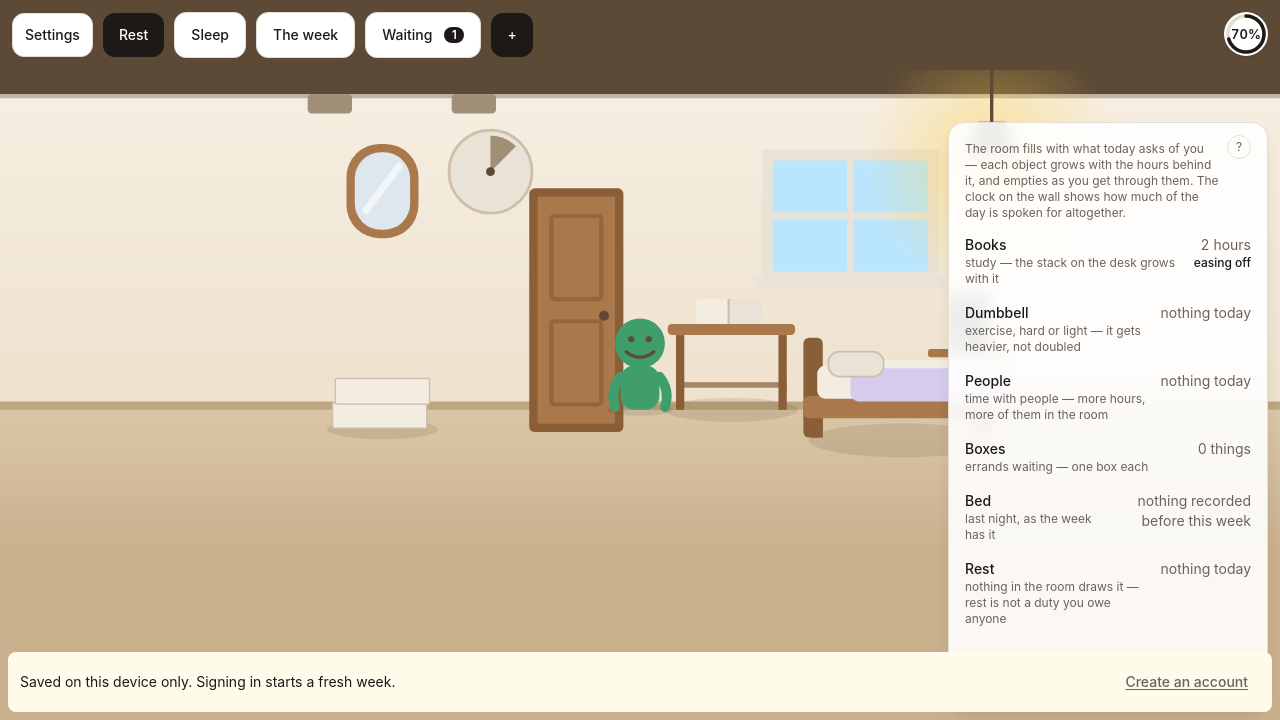
Scenario: RoomShell with a block to confirm › asks whether a scheduled block happened, on the today card
The width and height of the screenshot is (1280, 720).
Click the button with test id "open-notices".
click(423, 35)  # box x1=365 y1=12 x2=481 y2=58
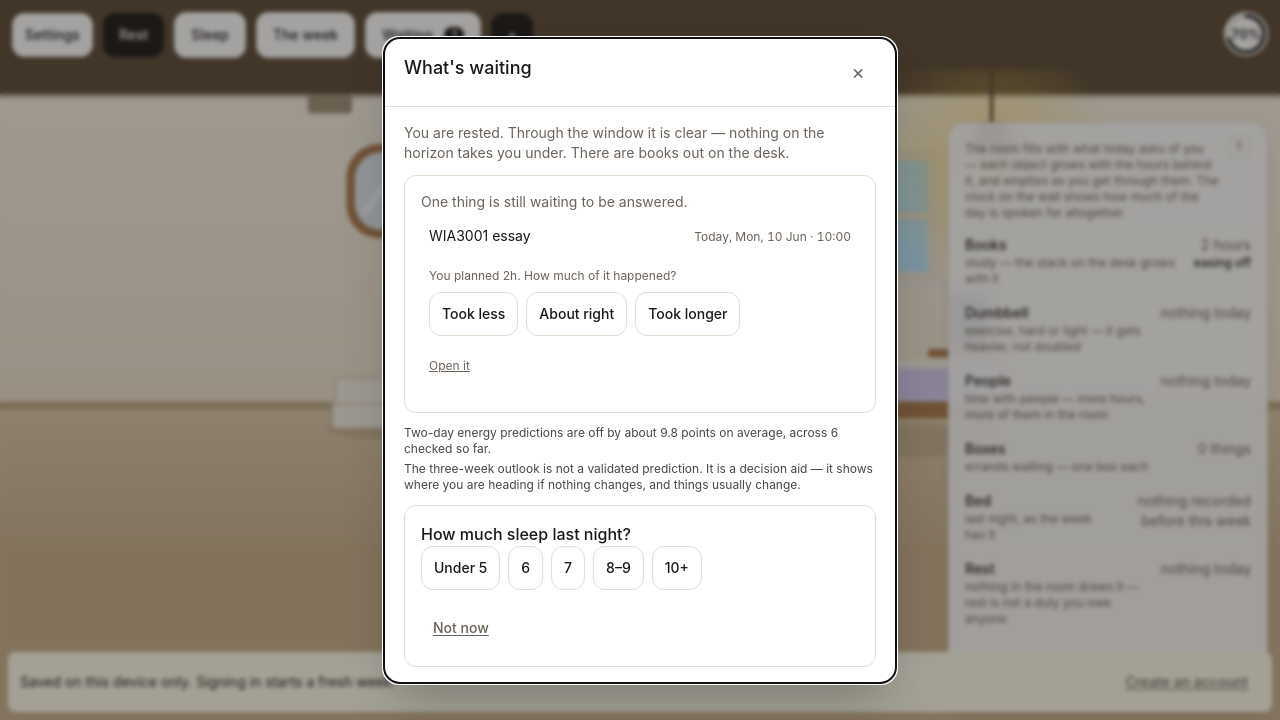
expect the text "WIA3001 essay" is shown: met, box x1=429 y1=226 x2=531 y2=246
expect the button with test id "answer-right" is shown: met, box x1=526 y1=292 x2=627 y2=336
